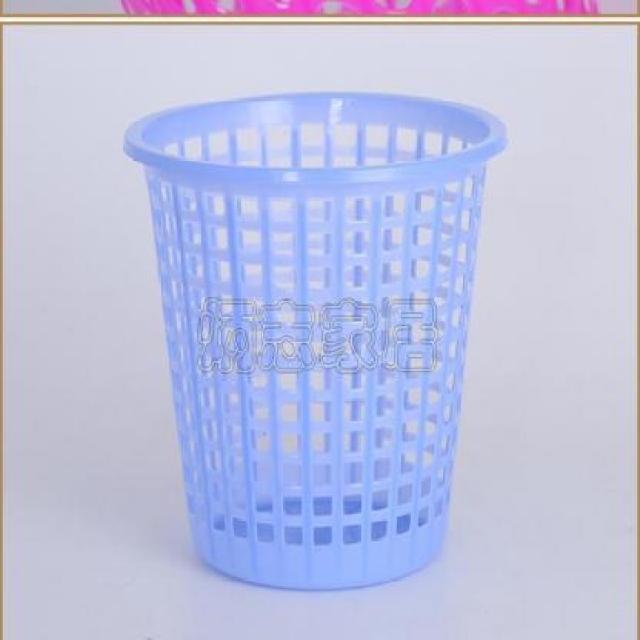dustbin: (120, 86, 512, 597)
